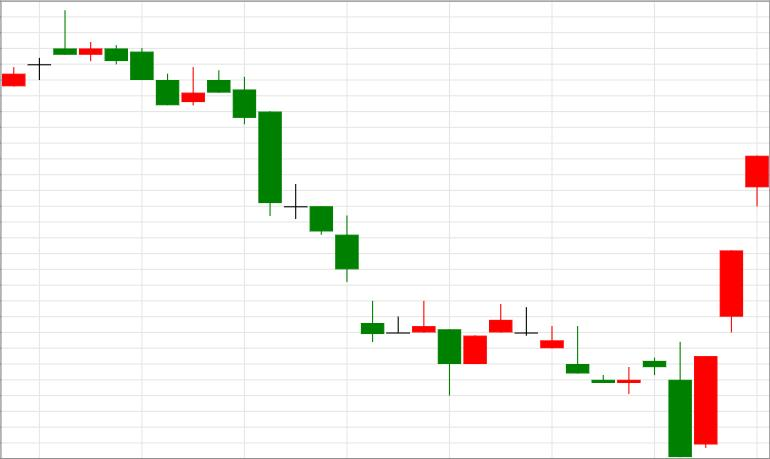three_white_soldiers_rise: (566, 156, 770, 457)
